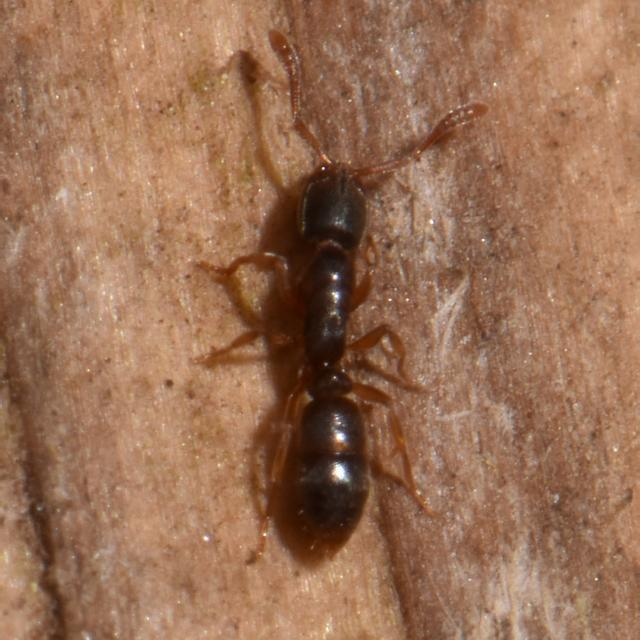Ponera: (155, 55, 478, 592)
